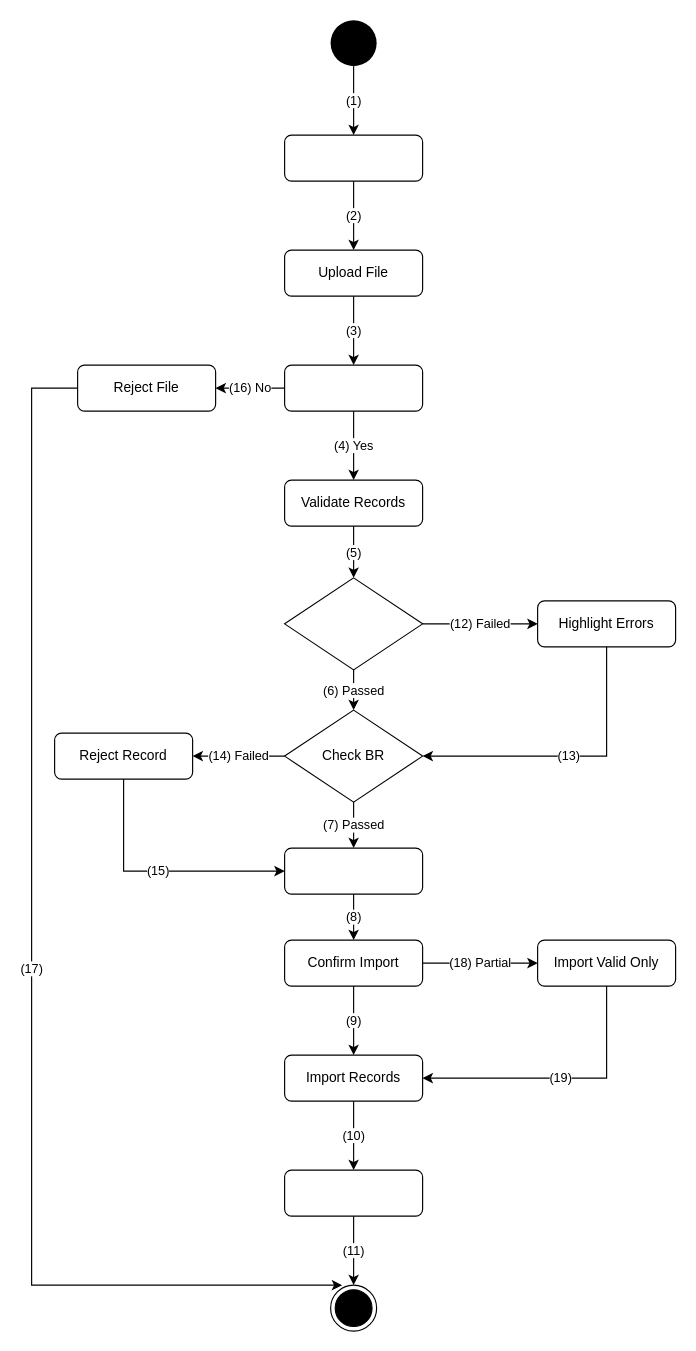
Some shapes in this 696 by 1351 pixel diagram are drawn without their labels. The shapes that lost their labels are listed below. From the top down, each one's centre as x and y in pixels, then its label:
the point at 353,157: Click Import
the point at 353,387: Validate Format
the point at 353,623: Check Errors
the point at 353,870: Show Preview
the point at 353,1192: Show Summary
